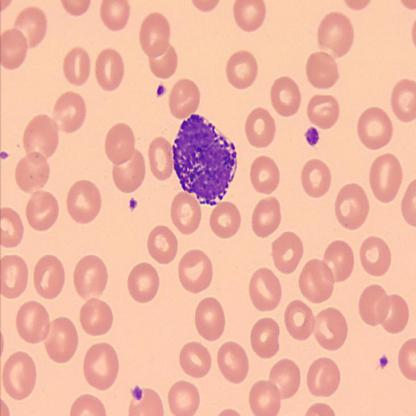Basophil: (171, 111, 238, 207)
